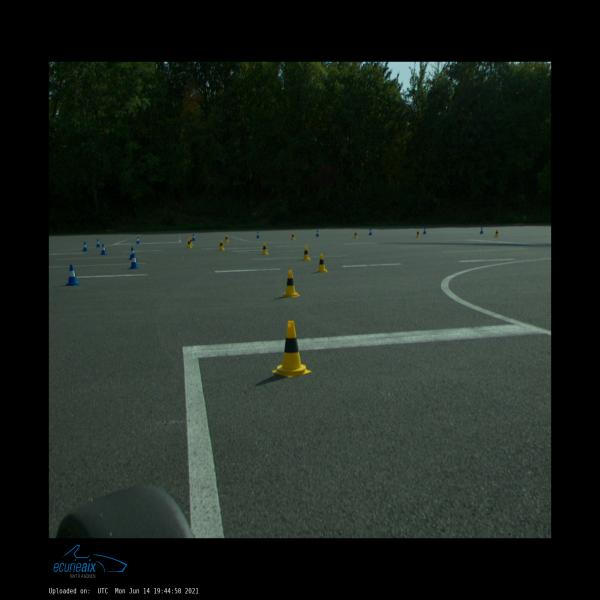blue_cone: (66, 265, 78, 285), (130, 254, 139, 268), (128, 247, 136, 259), (100, 244, 107, 255), (82, 241, 88, 251), (136, 236, 140, 243), (96, 239, 100, 246), (480, 227, 484, 234), (256, 231, 260, 238), (316, 229, 320, 236), (369, 228, 372, 236), (423, 227, 426, 234), (192, 234, 195, 241)
yellow_cone: (272, 321, 311, 377), (282, 270, 300, 297), (316, 253, 329, 273), (302, 246, 311, 260), (261, 243, 269, 254), (218, 239, 224, 250), (189, 236, 194, 246), (290, 232, 296, 240), (187, 239, 192, 248), (224, 234, 229, 242), (494, 230, 499, 238), (416, 230, 420, 238), (354, 231, 358, 238)
